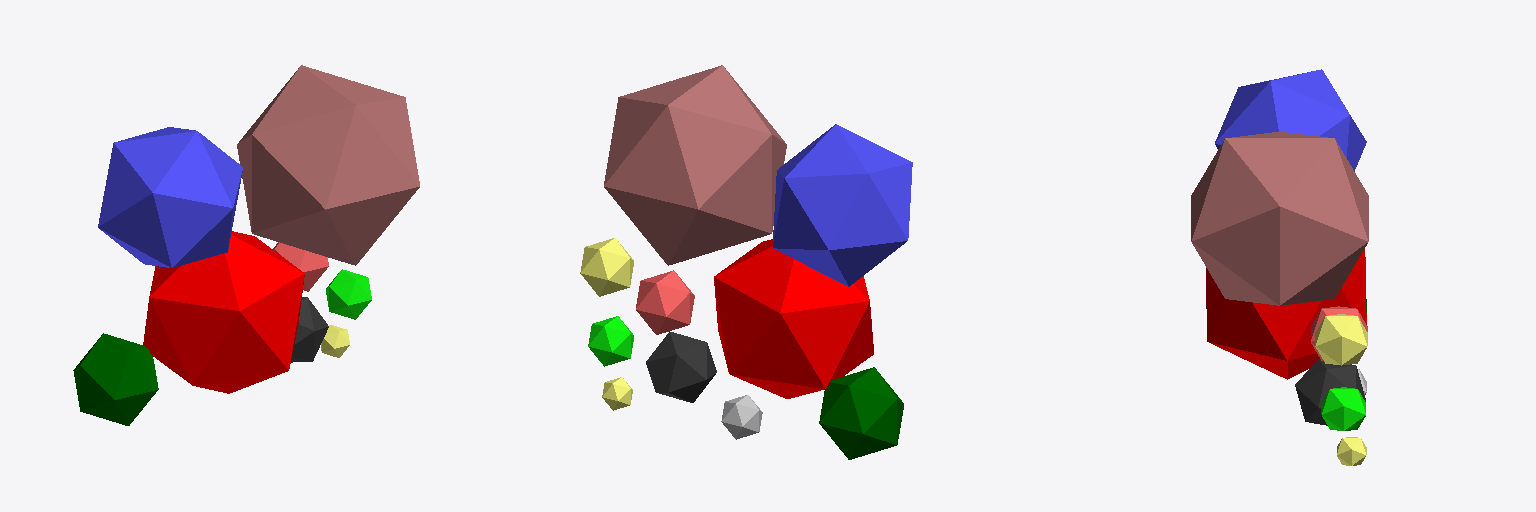
Rendered from dirt.obj.
The picture shows the model from 3 angles: view 1: azimuth 30°, elevation 25°; view 2: azimuth 150°, elevation 25°; view 3: azimuth 270°, elevation 25°; orthographic projection.
Visible parts, largest first — view 1: GeoSphere10, GeoSphere12, GeoSphere09, GeoSphere11, GeoSphere16, GeoSphere14, GeoSphere13, GeoSphere17; view 2: GeoSphere10, GeoSphere12, GeoSphere09, GeoSphere11, GeoSphere14, GeoSphere13, GeoSphere18, GeoSphere16, GeoSphere15, GeoSphere17; view 3: GeoSphere10, GeoSphere12, GeoSphere09, GeoSphere14, GeoSphere18, GeoSphere16, GeoSphere17, GeoSphere13.
Part boxes in pixels (x1,y1,x2,y2): GeoSphere10: (237,65,419,265); GeoSphere12: (143,231,304,393); GeoSphere09: (98,127,242,267); GeoSphere11: (73,333,158,425); GeoSphere16: (326,269,371,319); GeoSphere14: (291,297,328,362); GeoSphere13: (273,242,328,291); GeoSphere17: (321,325,349,357); GeoSphere10: (604,65,786,265); GeoSphere12: (714,239,873,398); GeoSphere09: (773,124,912,286); GeoSphere11: (819,367,903,459); GeoSphere14: (646,331,716,402); GeoSphere13: (636,270,694,334); GeoSphere18: (580,238,633,296); GeoSphere16: (588,316,633,366); GeoSphere15: (721,395,762,439); GeoSphere17: (602,377,632,410); GeoSphere10: (1191,132,1368,305); GeoSphere12: (1206,249,1366,379); GeoSphere09: (1215,69,1366,171); GeoSphere14: (1295,359,1365,425); GeoSphere18: (1315,314,1367,365); GeoSphere16: (1321,387,1365,430); GeoSphere17: (1337,437,1366,465); GeoSphere13: (1311,306,1367,360).
Size of the model in its own units: 0.6561 by 0.6293 by 0.3303.